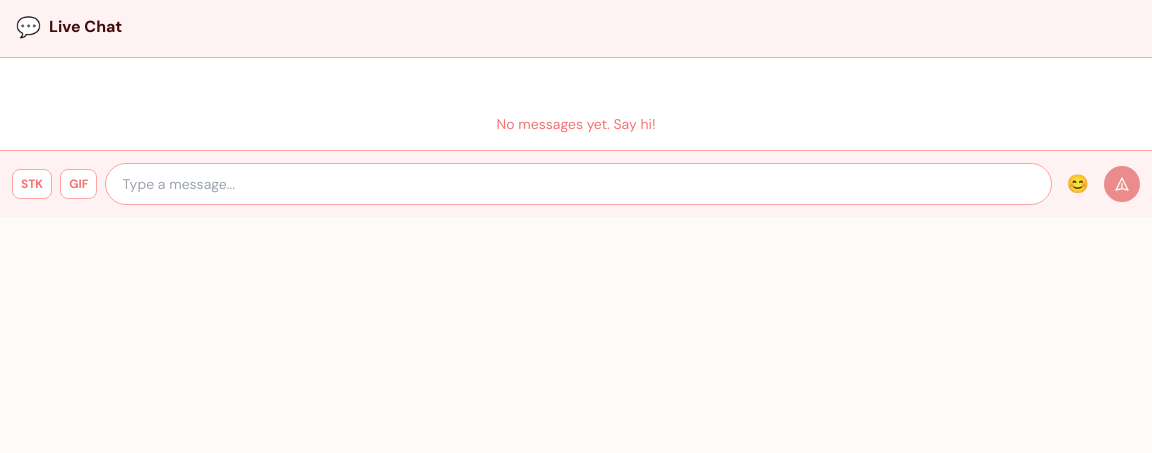
Test: ChatPanel › toggles GIF picker on GIF button click
expect the field with placeholder "Search GIFs..." is not shown: met
Step 1. Click the button "GIF" → coordinates (79, 184), box [60,169,98,199]
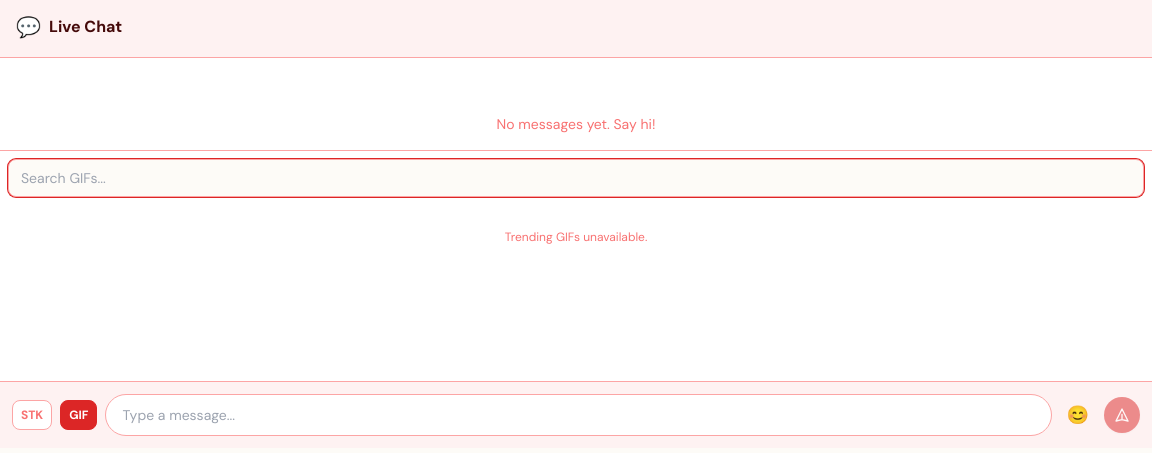
expect the field with placeholder "Search GIFs..." is shown: met, box [8,159,1144,197]
